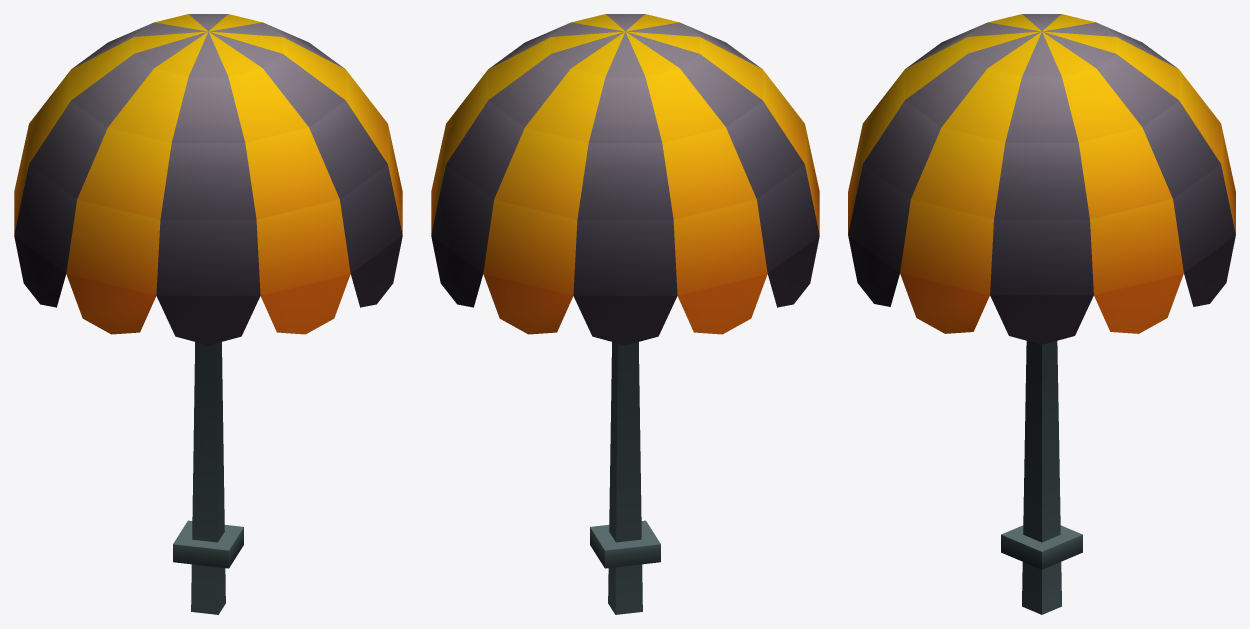
Rendered from Umbrella_1B.fbx.
3 views of the same model, side by side, from view 1: azimuth 30°, elevation 25°; view 2: azimuth 150°, elevation 25°; view 3: azimuth 270°, elevation 25° (orthographic).
Parts seen in each view (by area): view 1: Umbrella_1B; view 2: Umbrella_1B; view 3: Umbrella_1B.
Boxes of the visible parts, x1,y1,x2,y2 form: Umbrella_1B: (14, 14, 402, 614); Umbrella_1B: (431, 14, 819, 614); Umbrella_1B: (848, 14, 1235, 614).
Bounding box in the file's own units: 244 × 400 × 244.
